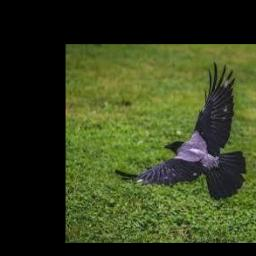Crow: (115, 61, 246, 201)
